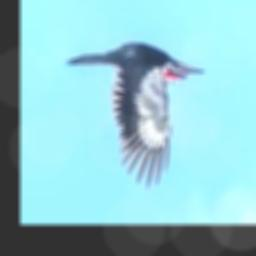Woodpecker: (64, 42, 205, 189)
